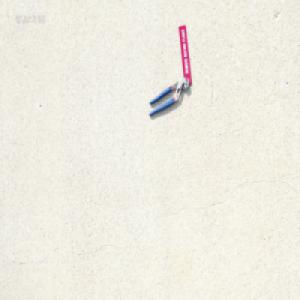Label: (177, 25, 191, 85)
Pliers: (148, 76, 189, 117)
